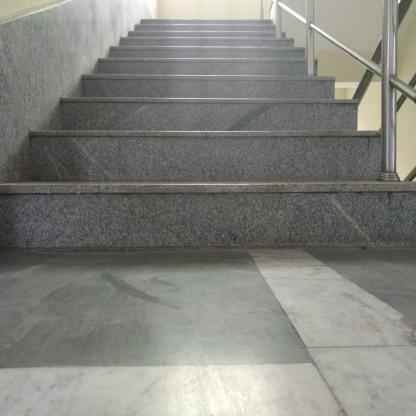stairs: (139, 29, 275, 268)
